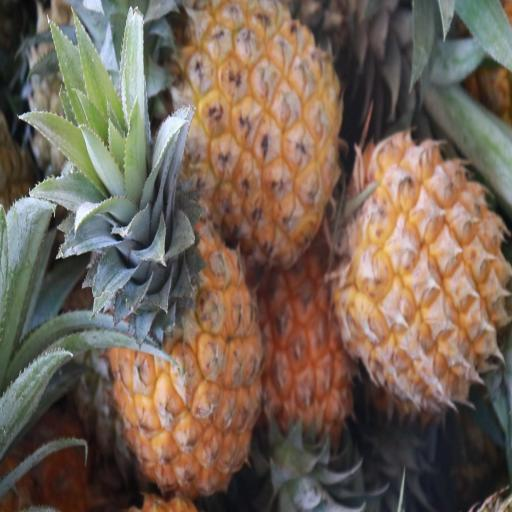Pineapple - v8 v1: (104, 136, 262, 498), (338, 123, 512, 414), (175, 0, 344, 259), (256, 257, 362, 489)
